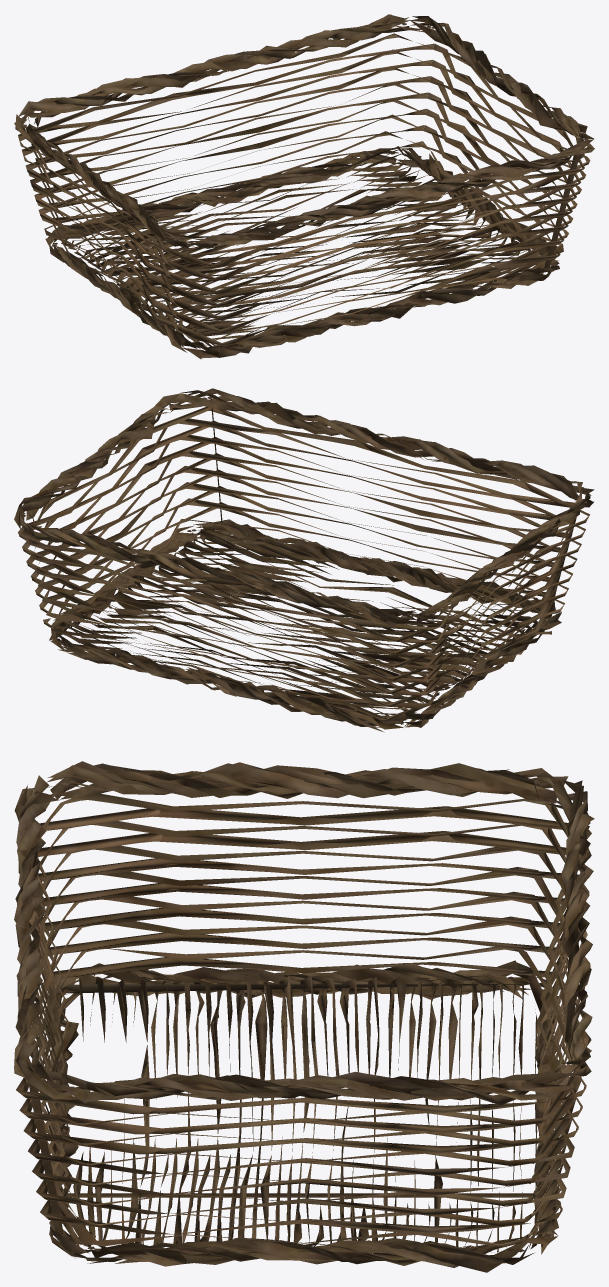
File: ph_wicker_basket_01.glb
3 views of the same model, one above another, from view 1: azimuth 30°, elevation 25°; view 2: azimuth 150°, elevation 25°; view 3: azimuth 270°, elevation 25° (orthographic). The views are drawn at different scales.
Visible parts, largest first — view 1: wicker_basket_01; view 2: wicker_basket_01; view 3: wicker_basket_01.
Boxes of the visible parts, bbox=[...] form: wicker_basket_01: bbox=[14, 14, 594, 359]; wicker_basket_01: bbox=[14, 388, 594, 732]; wicker_basket_01: bbox=[14, 761, 594, 1272].
Bounding box in the file's own units: 0.3834 × 0.1207 × 0.2931.
Materials: 1 (1 with a texture image).
